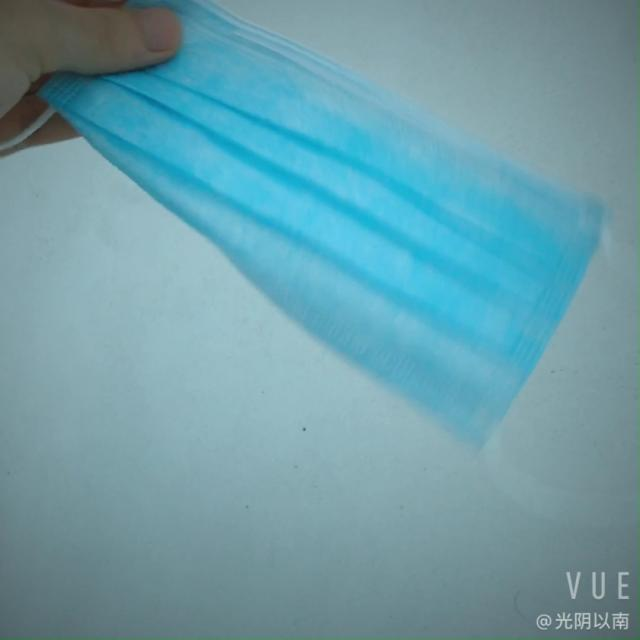non-organic waste: (64, 12, 582, 455)
